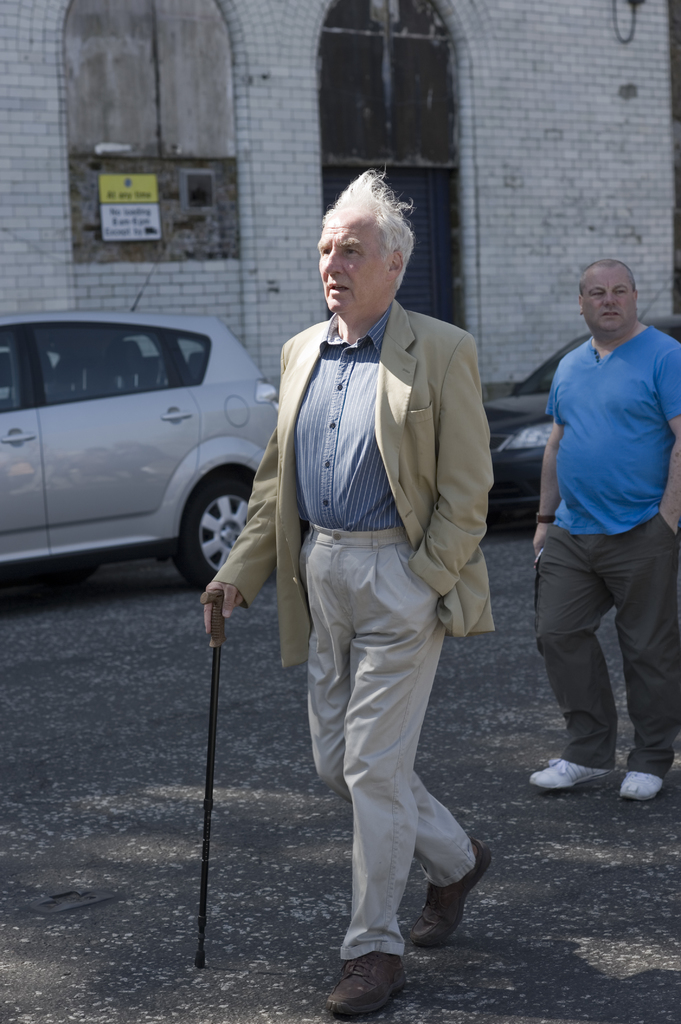Car: (0, 229, 279, 593), (465, 309, 680, 519)
